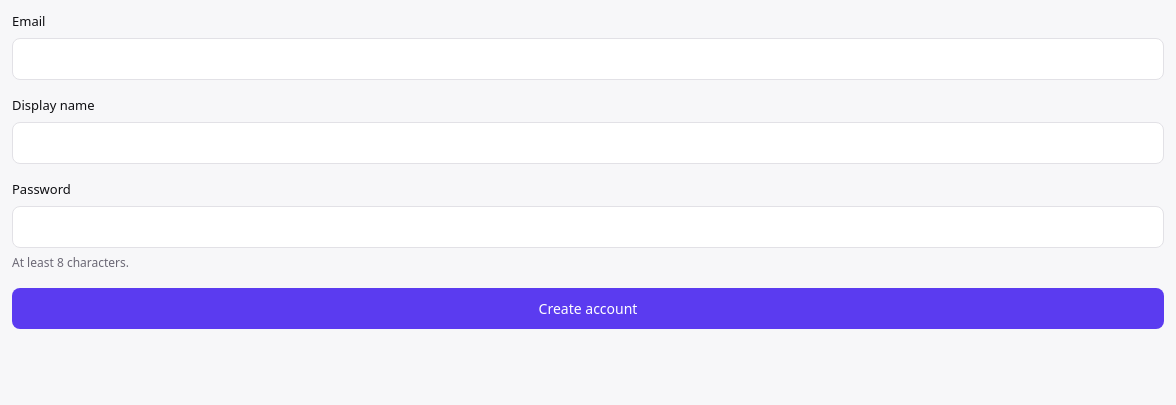
Test case: RegisterForm › shows an error message when registration fails
Type "bob@example.com" into the field labelled "Email". click: (588, 59)
box: [12,38,1164,80]
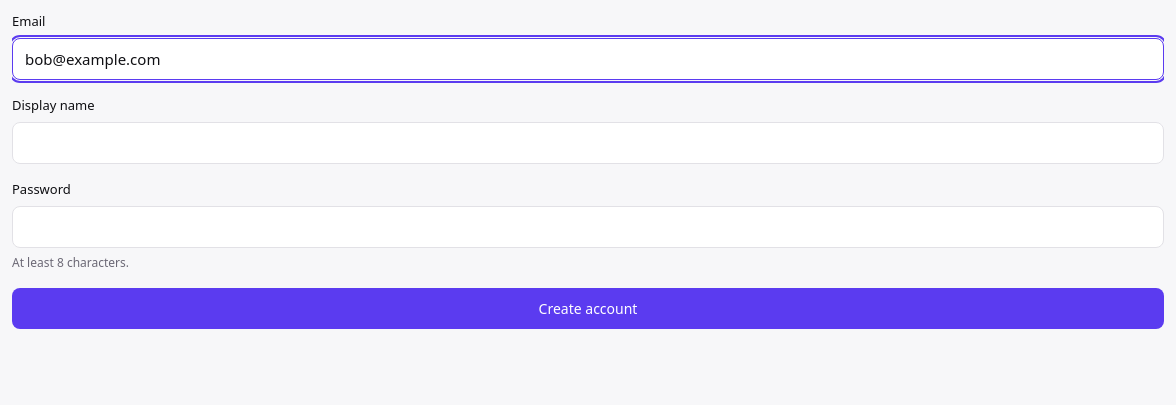
Type "Bob" into the field labelled "Display name". click: (588, 143)
box: [12,122,1164,164]
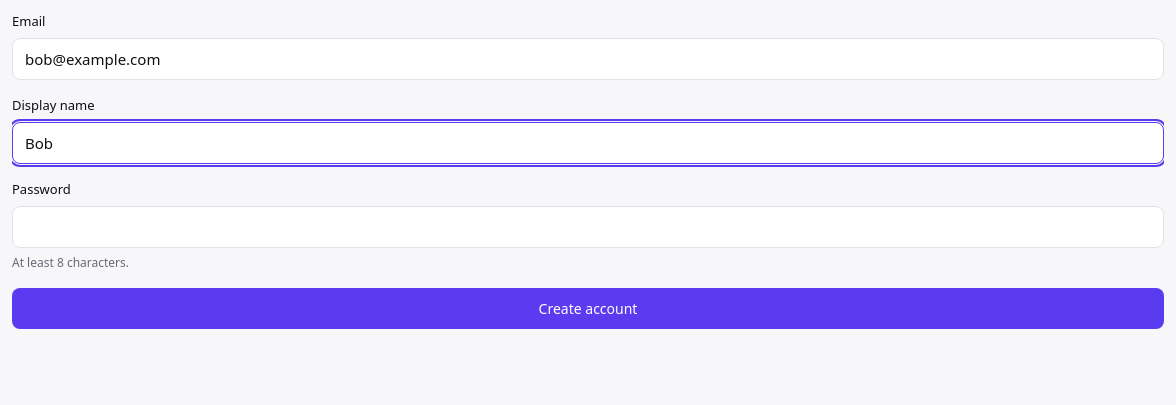
Type "password123" into the password field labelled "Password". click: (588, 227)
box: [12,206,1164,248]
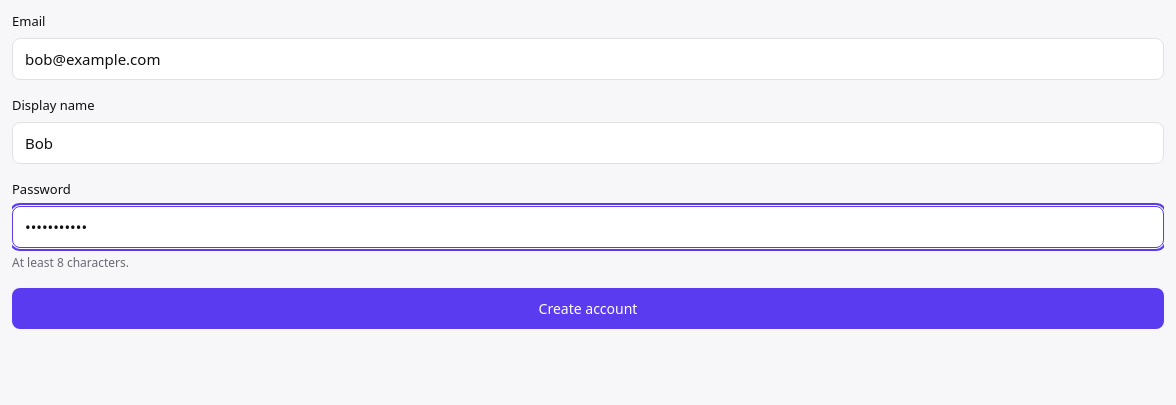
Click the button "Create account". click: click(588, 308)
box: [12,288,1164,329]
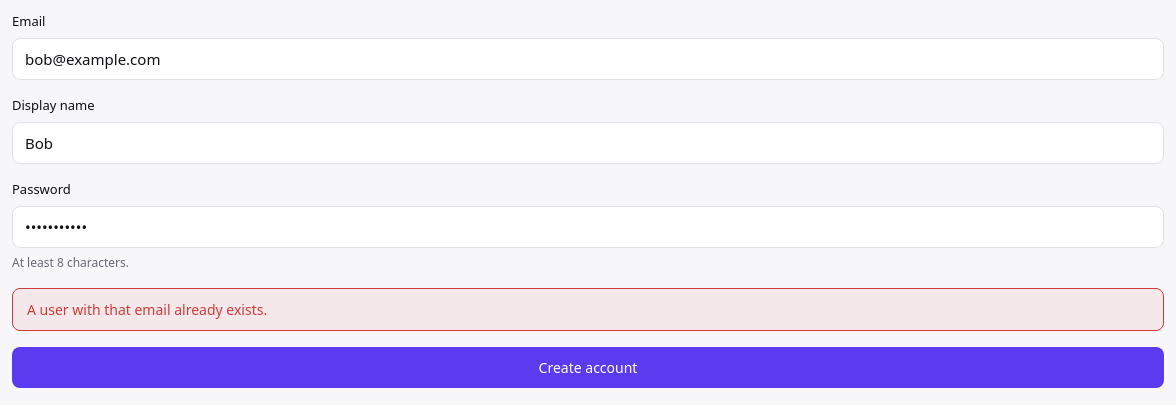
Now the message shows "already exists", box [27,300,267,319]
